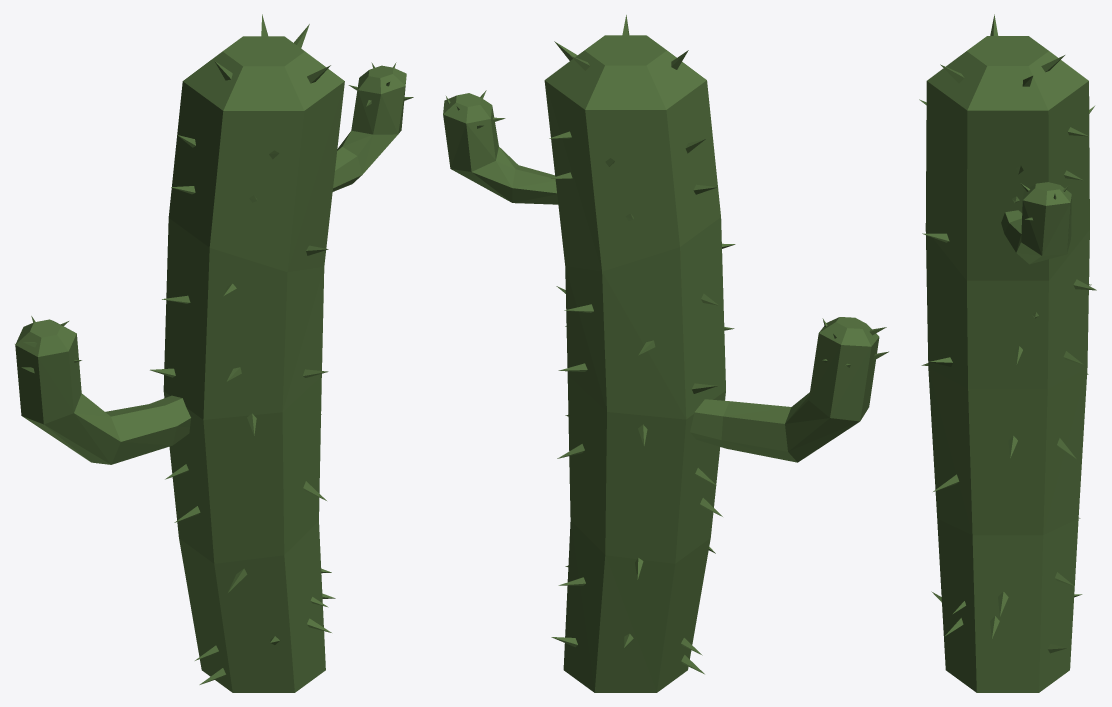
The model's file is cactus1.fbx.
The picture shows the model from 3 angles, left to right: view 1: azimuth 30°, elevation 25°; view 2: azimuth 150°, elevation 25°; view 3: azimuth 270°, elevation 25°; orthographic projection.
Visible parts, largest first — view 1: cactus1_LOD0; view 2: cactus1_LOD0; view 3: cactus1_LOD0.
Part boxes in pixels (<box>): cactus1_LOD0: <box>15,14,413,692</box>; cactus1_LOD0: <box>443,15,888,692</box>; cactus1_LOD0: <box>919,14,1096,692</box>.
Size of what is drawn, in the model's own units: 206 by 298 by 77.03.
